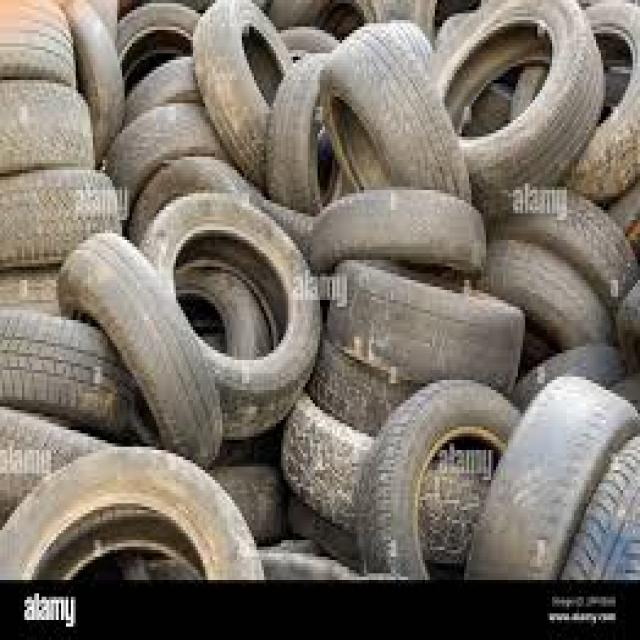Rubber -Non-Biodegradable but Recyclable-: (0, 4, 639, 578)
